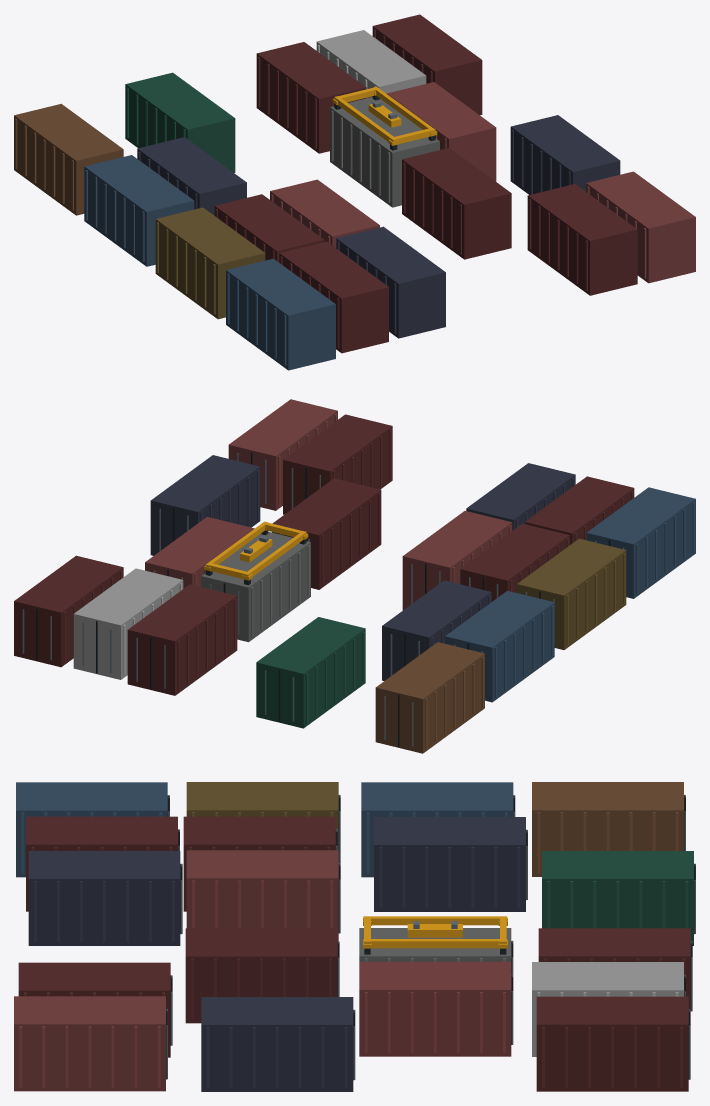
Rendered from SeaportSystem-01-Container-01-20Footer-1-05.glb.
3 views of the same model, one above another, from view 1: azimuth 30°, elevation 25°; view 2: azimuth 150°, elevation 25°; view 3: azimuth 270°, elevation 25° (orthographic). The views are drawn at different scales.
Visible parts, largest first — view 1: SeaportSystem-01-Container-01-20Footer-1-05; view 2: SeaportSystem-01-Container-01-20Footer-1-05; view 3: SeaportSystem-01-Container-01-20Footer-1-05.
Part boxes in pixels (x1,y1,x2,y2): SeaportSystem-01-Container-01-20Footer-1-05: (14,14,695,370); SeaportSystem-01-Container-01-20Footer-1-05: (14,399,695,753); SeaportSystem-01-Container-01-20Footer-1-05: (14,782,695,1091).
Size of the model in its own units: 50.25 by 8.25 by 59.24.
